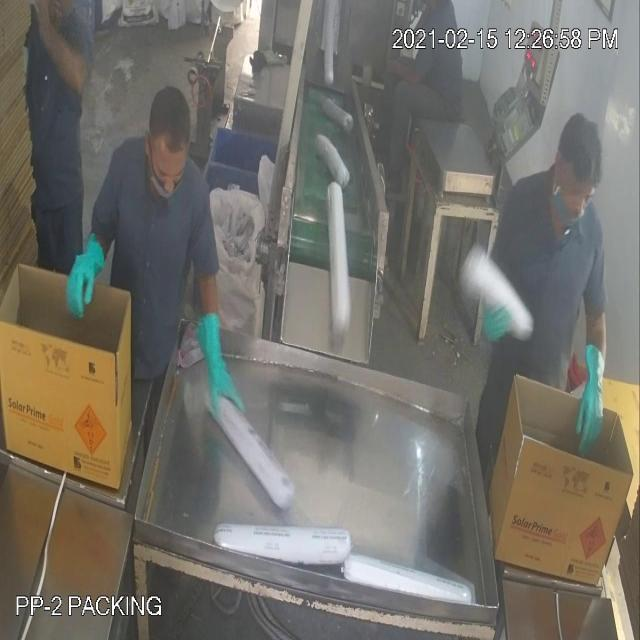gloves: (566, 326, 626, 470), (189, 303, 241, 445), (66, 214, 111, 324)
no-gloves: (29, 2, 95, 104), (386, 54, 440, 88)
